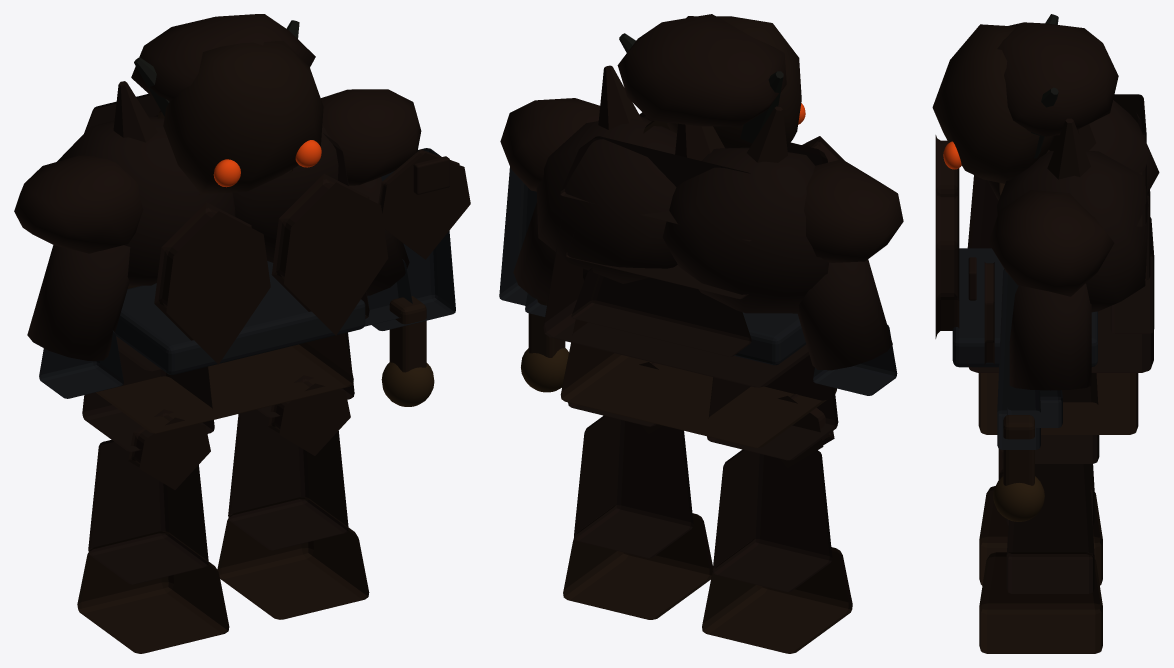
The model's file is Brute.obj.
The picture shows the model from 3 angles, left to right: view 1: azimuth 30°, elevation 25°; view 2: azimuth 150°, elevation 25°; view 3: azimuth 270°, elevation 25°; orthographic projection. The views are drawn at different scales.
Parts seen in each view (by area): view 1: brute_face, split_breast_plate.001, split_breast_plate, chitin_greave, chitin_greave.001, broad_pelvis, heavy_boot, heavy_boot.001, brute_pauldron, broad_iron_belt, left_raised_carapace, brute_upper_arm (+17 smaller); view 2: left_raised_carapace, right_raised_carapace, brow_helm, chitin_greave, chitin_greave.001, broad_pelvis, heavy_boot, heavy_boot.001, overlap_shell.002, hunched_shell_base, brute_pauldron, brute_upper_arm (+16 smaller); view 3: brow_helm, brute_face, right_raised_carapace, brute_pauldron.001, chitin_greave.001, heavy_boot.001, brute_upper_arm.001, broad_pelvis, broad_iron_belt, hunched_shell_base, split_breast_plate.001, cleaver_blade (+16 smaller).
Part boxes in pixels (x1,y1,x2,y2): brute_face: [163, 41, 323, 194]; split_breast_plate.001: [271, 173, 388, 335]; split_breast_plate: [154, 202, 270, 364]; chitin_greave: [88, 440, 208, 584]; chitin_greave.001: [228, 409, 348, 550]; broad_pelvis: [96, 285, 353, 433]; heavy_boot: [77, 531, 229, 653]; heavy_boot.001: [217, 497, 369, 619]; brute_pauldron: [14, 155, 143, 253]; broad_iron_belt: [115, 261, 365, 374]; left_raised_carapace: [57, 115, 235, 285]; brute_upper_arm: [27, 245, 130, 360]; left_raised_carapace: [662, 147, 828, 313]; right_raised_carapace: [536, 116, 677, 283]; brow_helm: [617, 14, 786, 126]; chitin_greave: [712, 449, 832, 591]; chitin_greave.001: [574, 415, 693, 558]; broad_pelvis: [560, 319, 836, 447]; heavy_boot: [702, 538, 852, 653]; heavy_boot.001: [563, 505, 712, 619]; overlap_shell.002: [571, 267, 751, 356]; hunched_shell_base: [543, 112, 827, 387]; brute_pauldron: [804, 159, 903, 262]; brute_upper_arm: [798, 259, 892, 370]; brow_helm: [997, 22, 1118, 136]; brute_face: [932, 24, 1054, 183]; right_raised_carapace: [997, 151, 1148, 312]; brute_pauldron.001: [988, 190, 1114, 296]; chitin_greave.001: [1006, 464, 1094, 593]; heavy_boot.001: [979, 552, 1102, 653]; brute_upper_arm.001: [1009, 283, 1091, 390]; broad_pelvis: [978, 373, 1138, 434]; broad_iron_belt: [952, 248, 1097, 367]; hunched_shell_base: [966, 112, 1153, 372]; split_breast_plate.001: [935, 190, 959, 338]; cleaver_blade: [997, 269, 1040, 449].
Size of the model in its own units: 1.48 by 1.99 by 0.7195.
